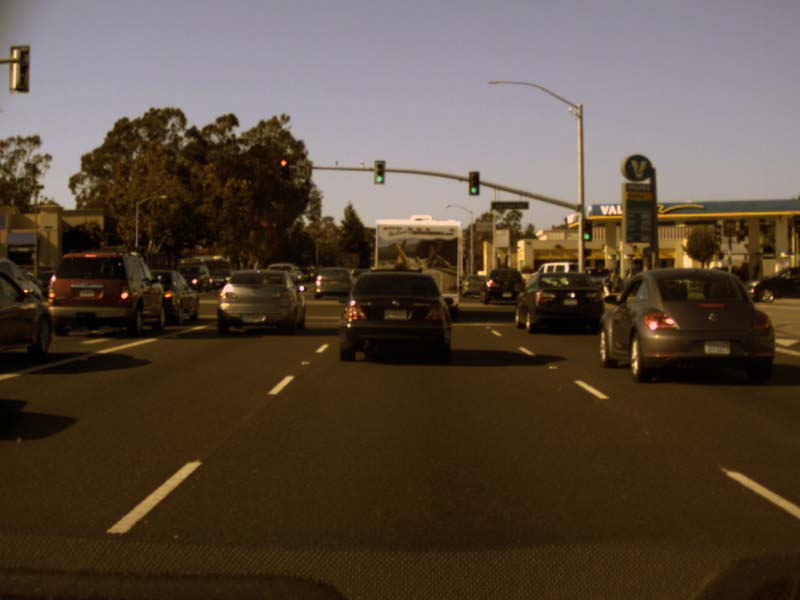Green: (468, 170, 478, 195), (374, 160, 384, 183), (582, 219, 591, 240)
Red: (279, 158, 289, 180)
